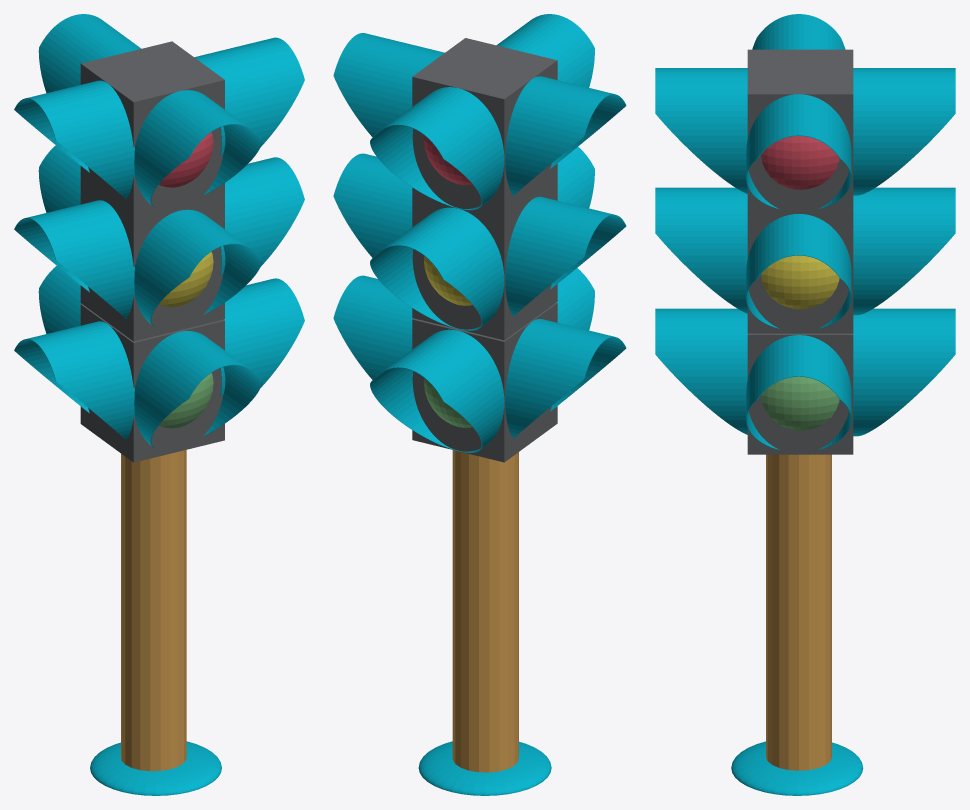
Rendered from traffic lights by neeal singroha.glb.
The picture shows the model from 3 angles, left to right: view 1: azimuth 30°, elevation 25°; view 2: azimuth 150°, elevation 25°; view 3: azimuth 270°, elevation 25°; orthographic projection.
Visible parts, largest first — view 1: Mesh_Mesh_head_geo.001_lambert2SG.001; view 2: Mesh_Mesh_head_geo.001_lambert2SG.001; view 3: Mesh_Mesh_head_geo.001_lambert2SG.001.
Part boxes in pixels (box(x1,y1,x2,y2)): Mesh_Mesh_head_geo.001_lambert2SG.001: box(14, 14, 304, 795); Mesh_Mesh_head_geo.001_lambert2SG.001: box(333, 14, 626, 795); Mesh_Mesh_head_geo.001_lambert2SG.001: box(655, 14, 955, 795).
Bounding box in the file's own units: 0.0435 × 0.1163 × 0.0455.
